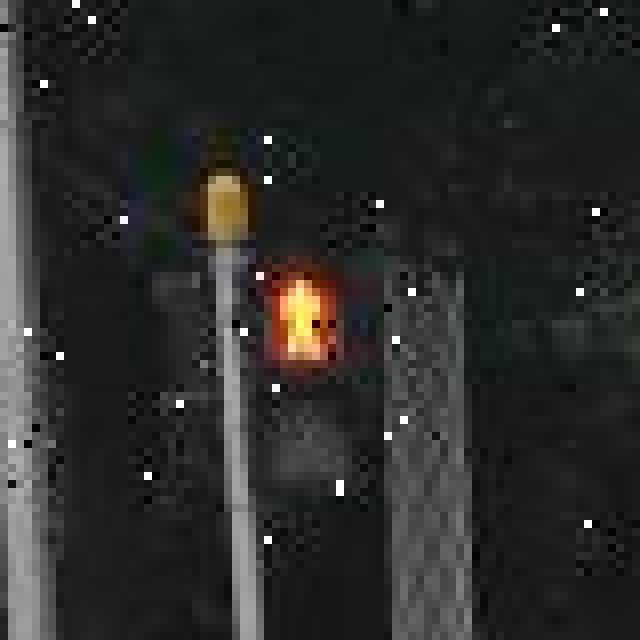redlight: (252, 268, 380, 499)
